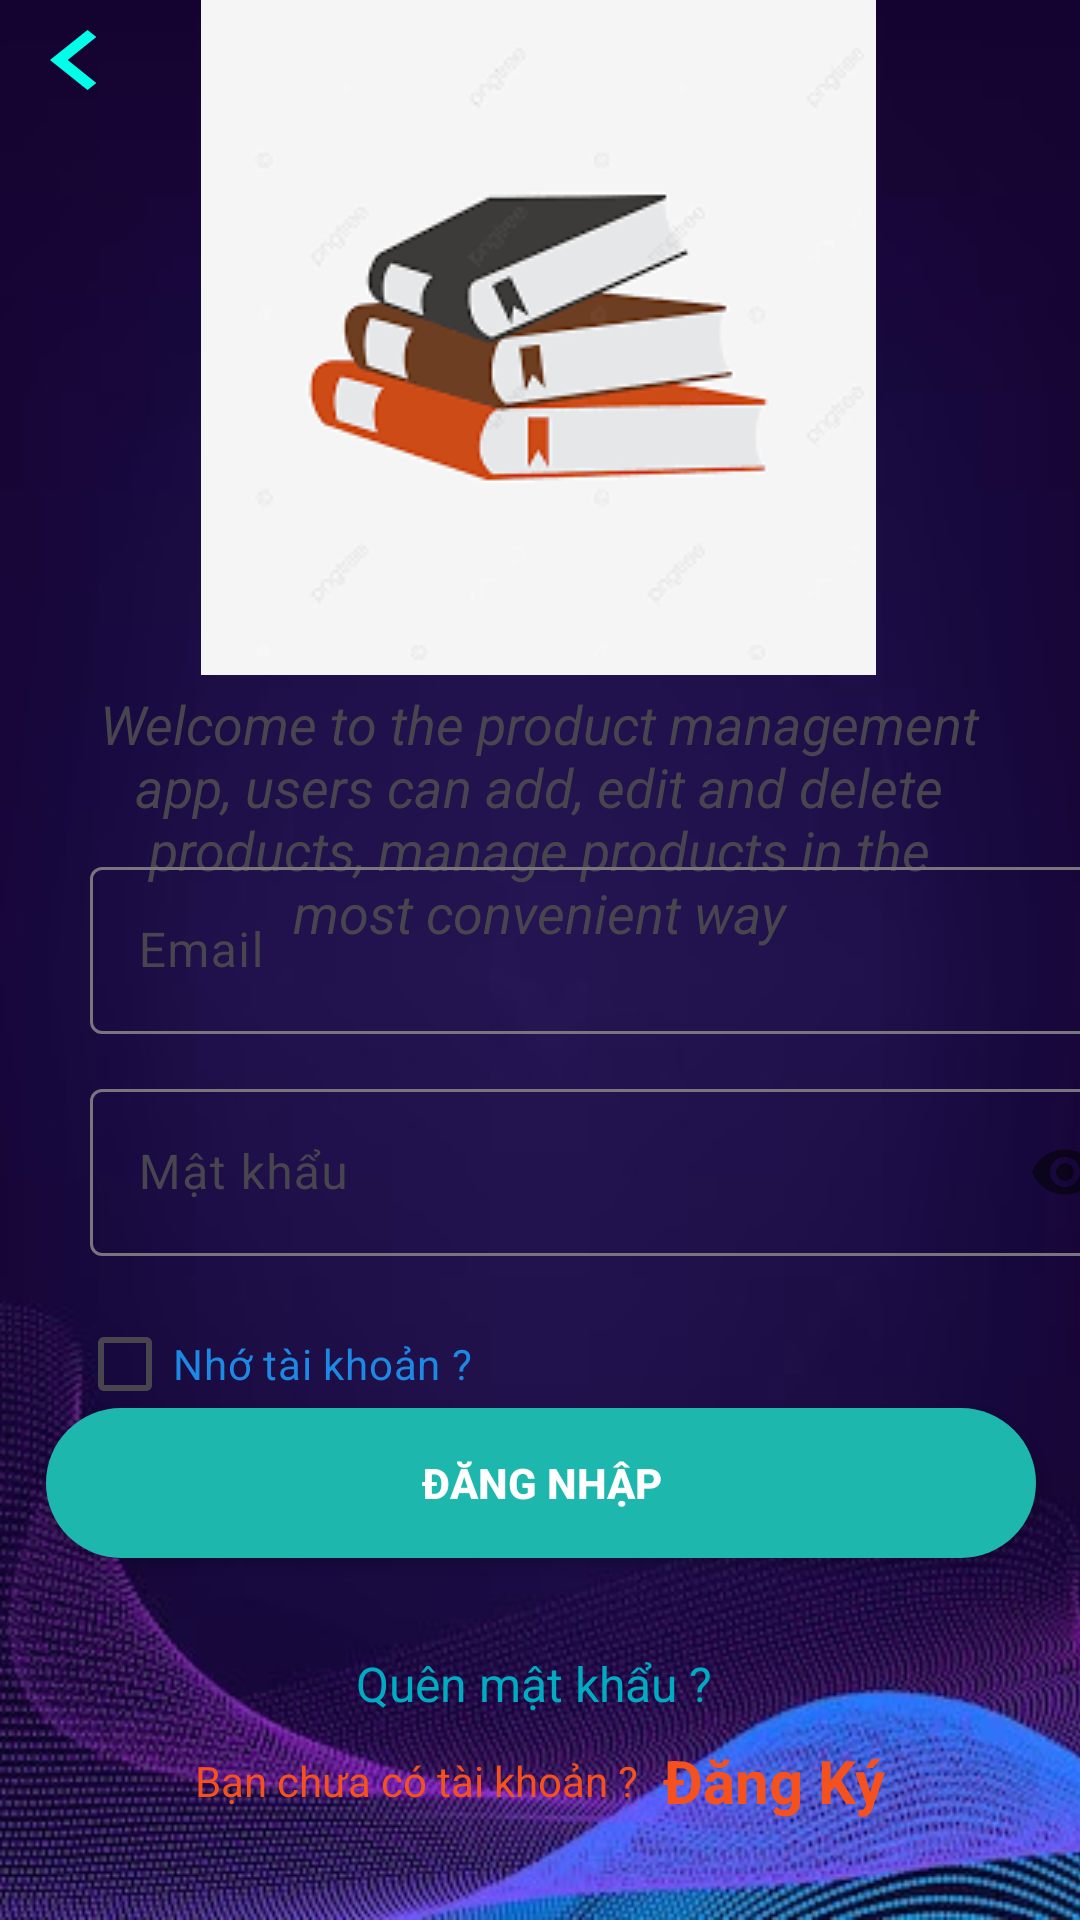

Where icons sit on this 1080 × 1920 app screen, as (x1, y1, x2, y2):
chevron left: (50, 30, 96, 90)
